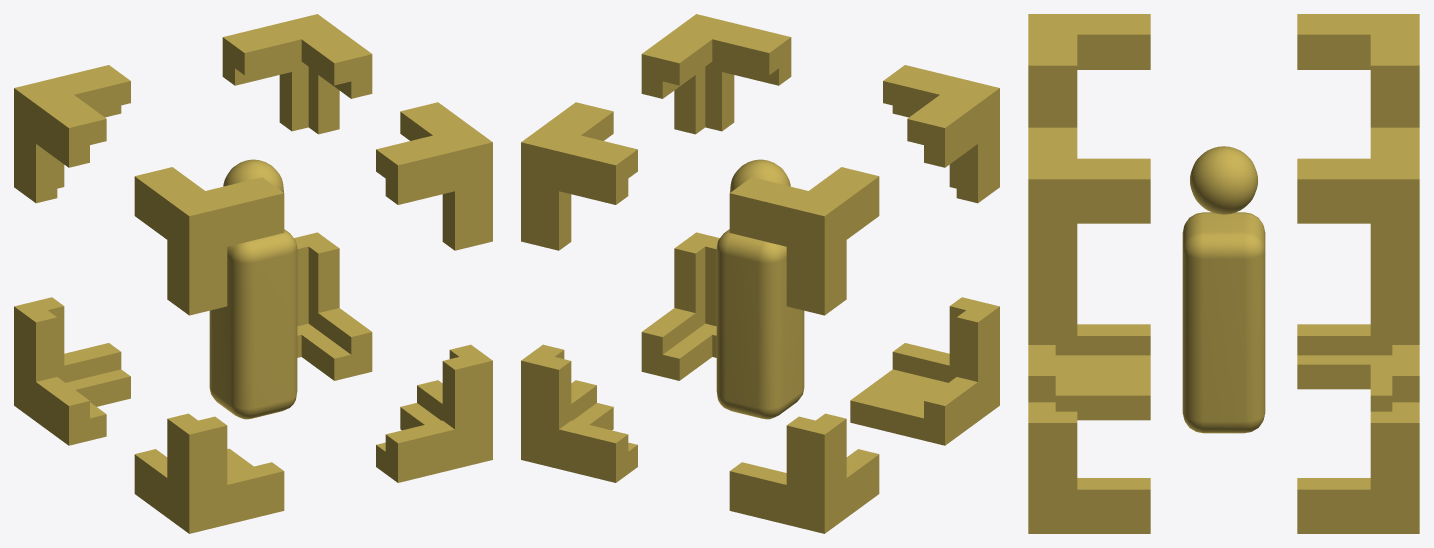
File: icon inform.fbx
The picture shows the model from 3 angles, left to right: view 1: azimuth 30°, elevation 25°; view 2: azimuth 150°, elevation 25°; view 3: azimuth 270°, elevation 25°; orthographic projection. The views are drawn at different scales.
Visible parts, largest first — view 1: inform_cube, inform_icon, inform_sphere; view 2: inform_cube, inform_icon, inform_sphere; view 3: inform_cube, inform_icon, inform_sphere.
Boxes of the visible parts, x1=… form: inform_cube: x1=14, y1=14, x2=492, y2=533; inform_icon: x1=209, y1=229, x2=297, y2=419; inform_sphere: x1=223, y1=159, x2=283, y2=192; inform_cube: x1=521, y1=14, x2=999, y2=533; inform_icon: x1=716, y1=229, x2=804, y2=419; inform_sphere: x1=730, y1=159, x2=790, y2=192; inform_cube: x1=1028, y1=14, x2=1419, y2=533; inform_icon: x1=1182, y1=212, x2=1265, y2=433; inform_sphere: x1=1190, y1=146, x2=1257, y2=214.
Size of the model in its own units: 0.1145 by 0.1145 by 0.1145.
